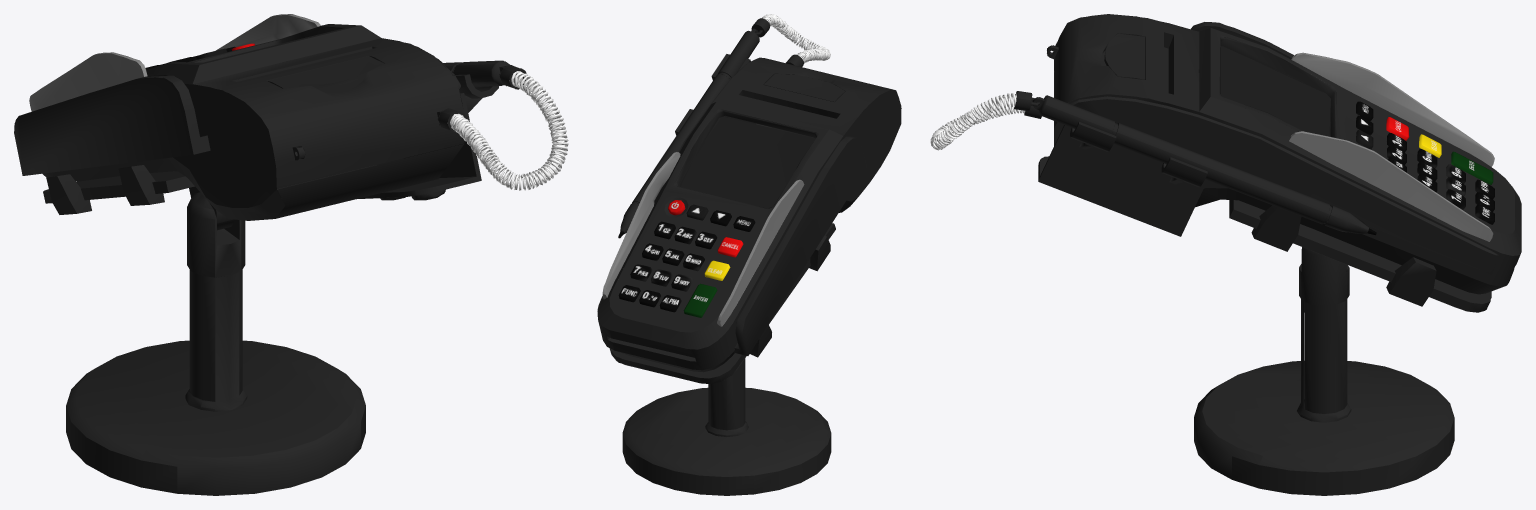
The model's file is CardLoader.fbx.
3 views of the same model, side by side, from view 1: azimuth 30°, elevation 25°; view 2: azimuth 150°, elevation 25°; view 3: azimuth 270°, elevation 25° (orthographic). The views are drawn at different scales.
Parts seen in each view (by area): view 1: object_0; view 2: object_0, Screen; view 3: object_0, Screen.
Boxes of the visible parts, bbox=[...] form: object_0: bbox=[14, 14, 568, 495]; object_0: bbox=[597, 14, 901, 495]; Screen: bbox=[680, 116, 815, 208]; object_0: bbox=[930, 14, 1521, 495]; Screen: bbox=[1220, 46, 1330, 136].
Bounding box in the file's own units: 2.26 × 3.67 × 4.9.
